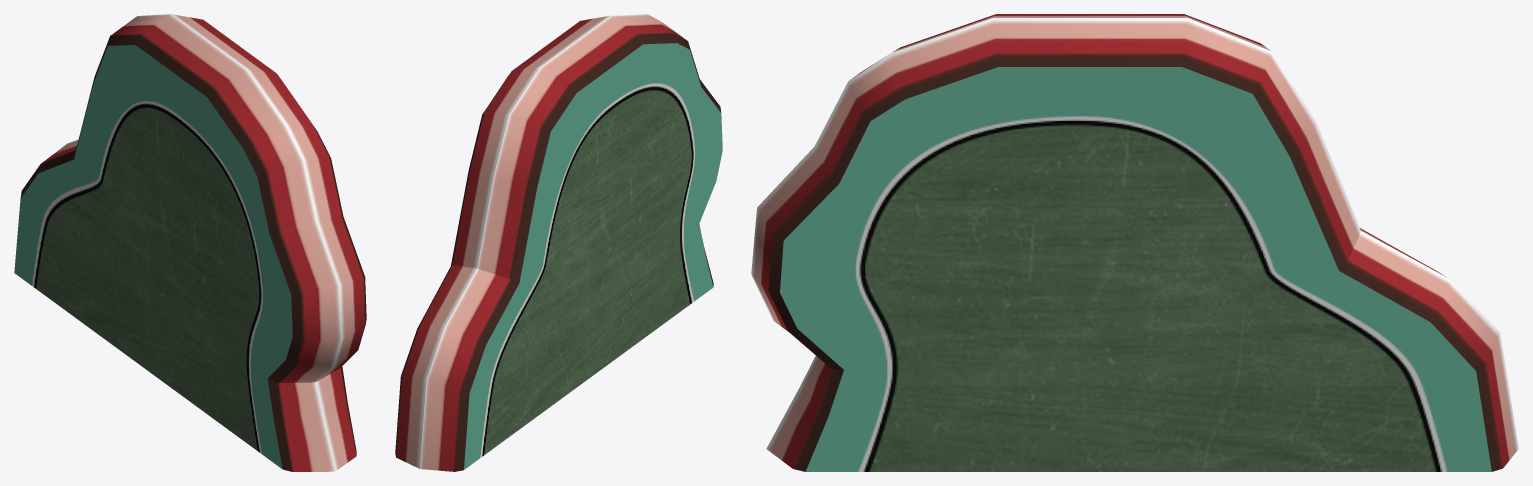
File: SM_Boaji14A.fbx
3 views of the same model, side by side, from view 1: azimuth 30°, elevation 25°; view 2: azimuth 150°, elevation 25°; view 3: azimuth 270°, elevation 25° (orthographic). The views are drawn at different scales.
Visible parts, largest first — view 1: SM_Boaji14A; view 2: SM_Boaji14A; view 3: SM_Boaji14A.
Boxes of the visible parts, left/top/right/bottom form: SM_Boaji14A: left=14, top=14, right=366, bottom=471; SM_Boaji14A: left=395, top=14, right=722, bottom=471; SM_Boaji14A: left=751, top=14, right=1518, bottom=471.
Bounding box in the file's own units: 10.26 × 72.24 × 44.77.
Materials: 1 (1 with a texture image).
